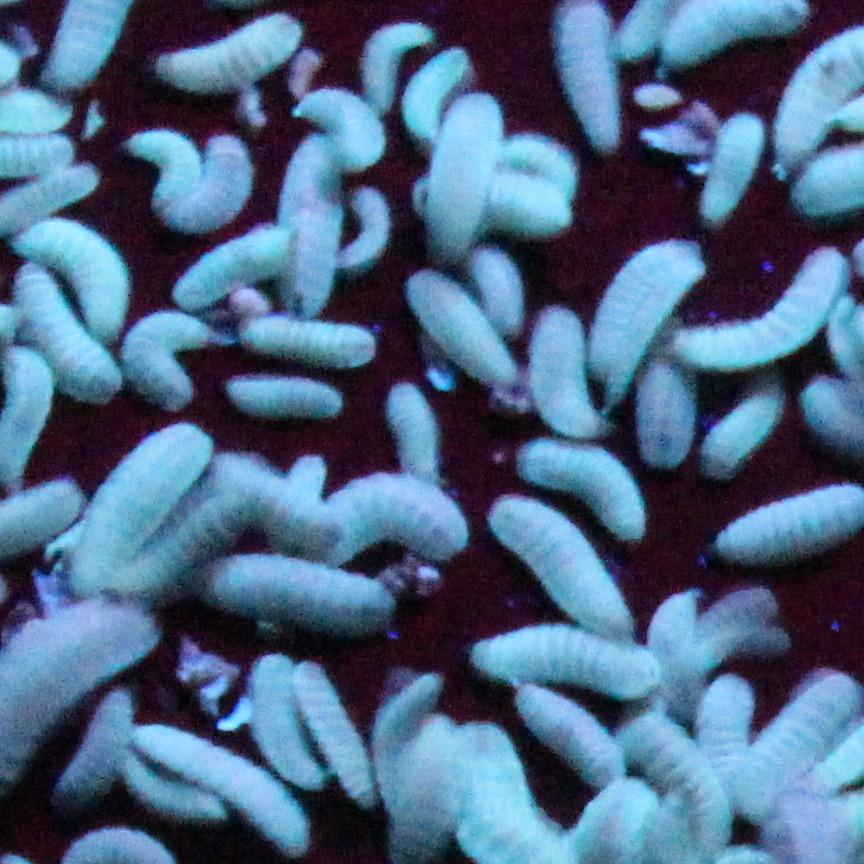larve: (471, 481, 638, 642), (129, 713, 311, 857), (70, 415, 218, 586), (670, 238, 851, 361), (191, 544, 404, 640), (395, 255, 528, 400), (733, 667, 862, 815), (585, 244, 701, 403), (508, 419, 654, 544), (13, 209, 133, 342), (421, 79, 506, 265), (10, 263, 124, 401), (147, 1, 304, 100), (456, 619, 665, 693), (273, 127, 346, 322), (283, 655, 381, 800), (245, 642, 331, 798), (503, 680, 620, 792), (116, 303, 224, 413), (549, 5, 628, 155), (49, 688, 137, 815), (162, 126, 260, 238), (532, 301, 611, 437), (381, 378, 458, 509), (687, 105, 764, 230), (695, 371, 786, 476), (351, 15, 437, 123), (118, 125, 203, 223), (397, 36, 469, 145), (220, 369, 346, 431), (465, 240, 537, 342)
